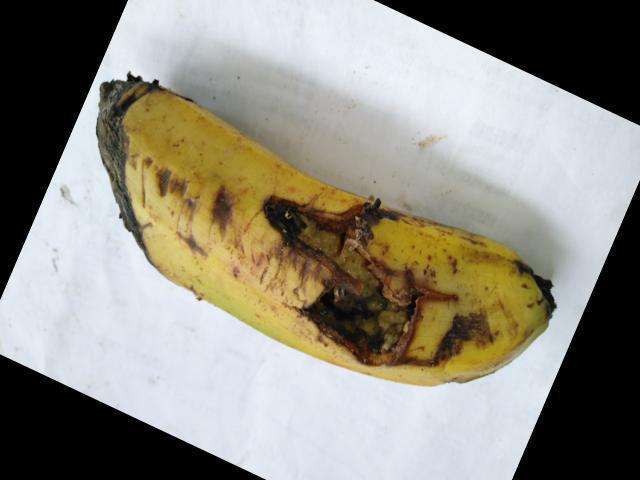rotten: (266, 149, 486, 407), (46, 38, 206, 287)
